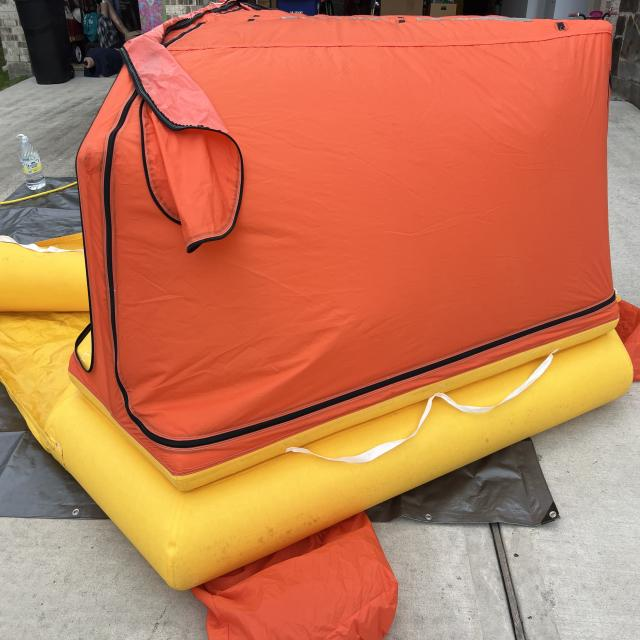Multi-person_life_raft: (1, 2, 640, 639)
